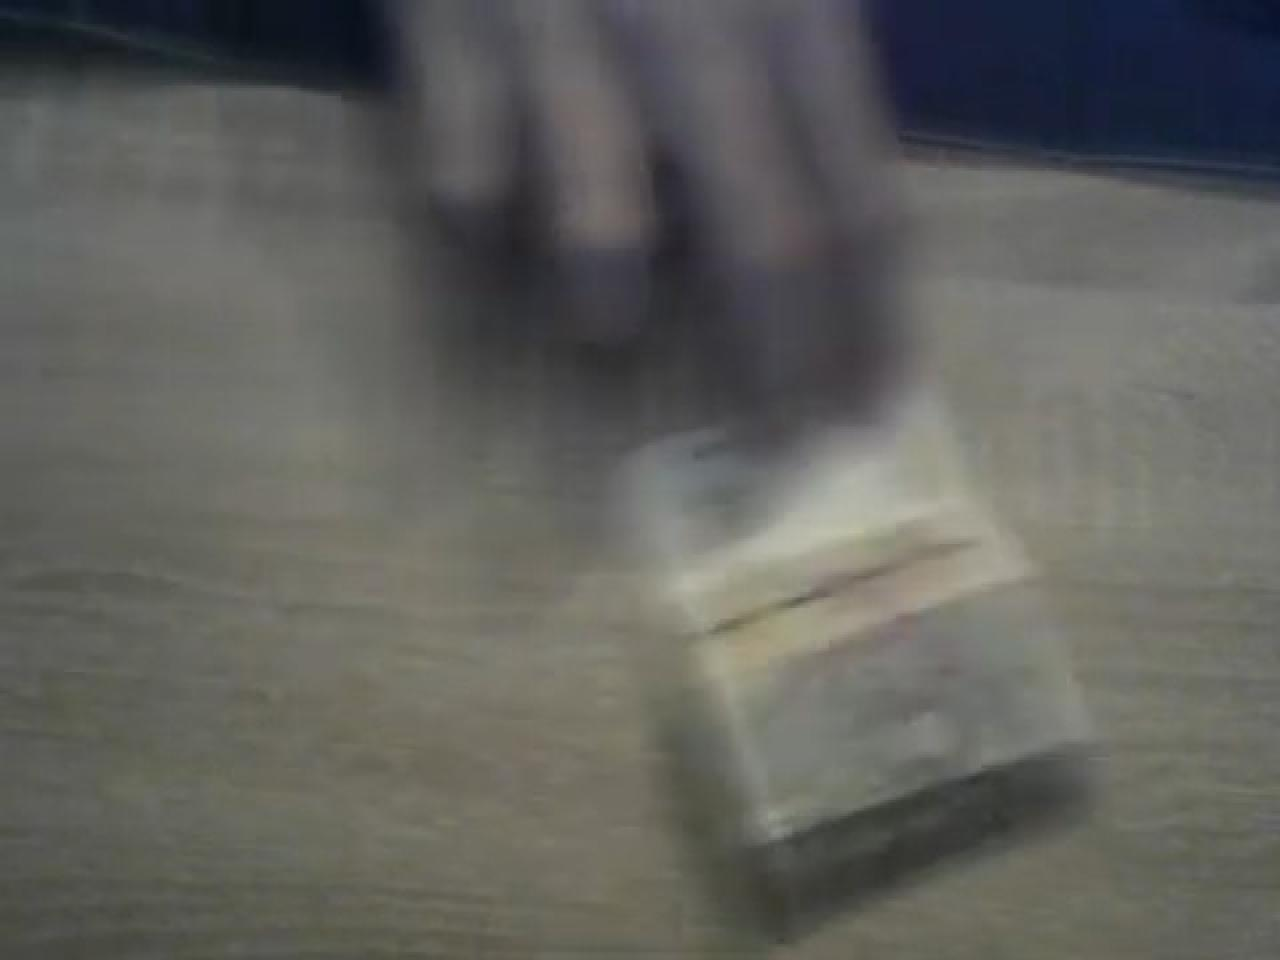10leva: (565, 341, 1099, 960)
